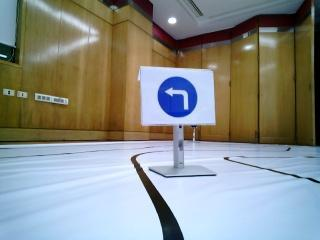left: (143, 73, 212, 121)
